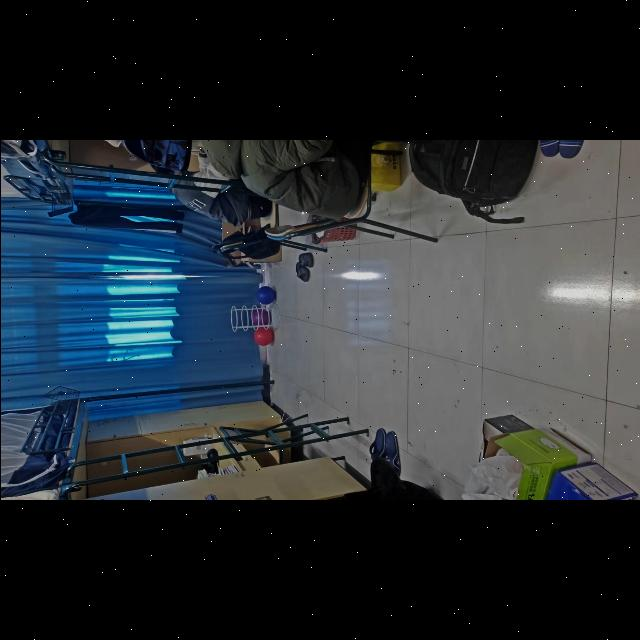B: (256, 287, 275, 305)
P: (252, 309, 270, 325)
R: (253, 328, 272, 346)
S: (231, 304, 279, 332)
